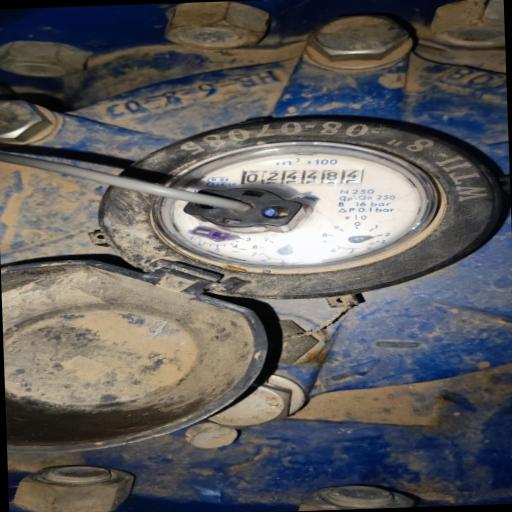0: (244, 172, 260, 182)
2: (266, 170, 282, 181)
4: (344, 168, 362, 180), (282, 170, 302, 180), (303, 169, 321, 180)
8: (323, 170, 341, 182)
medida: (239, 168, 365, 184)
